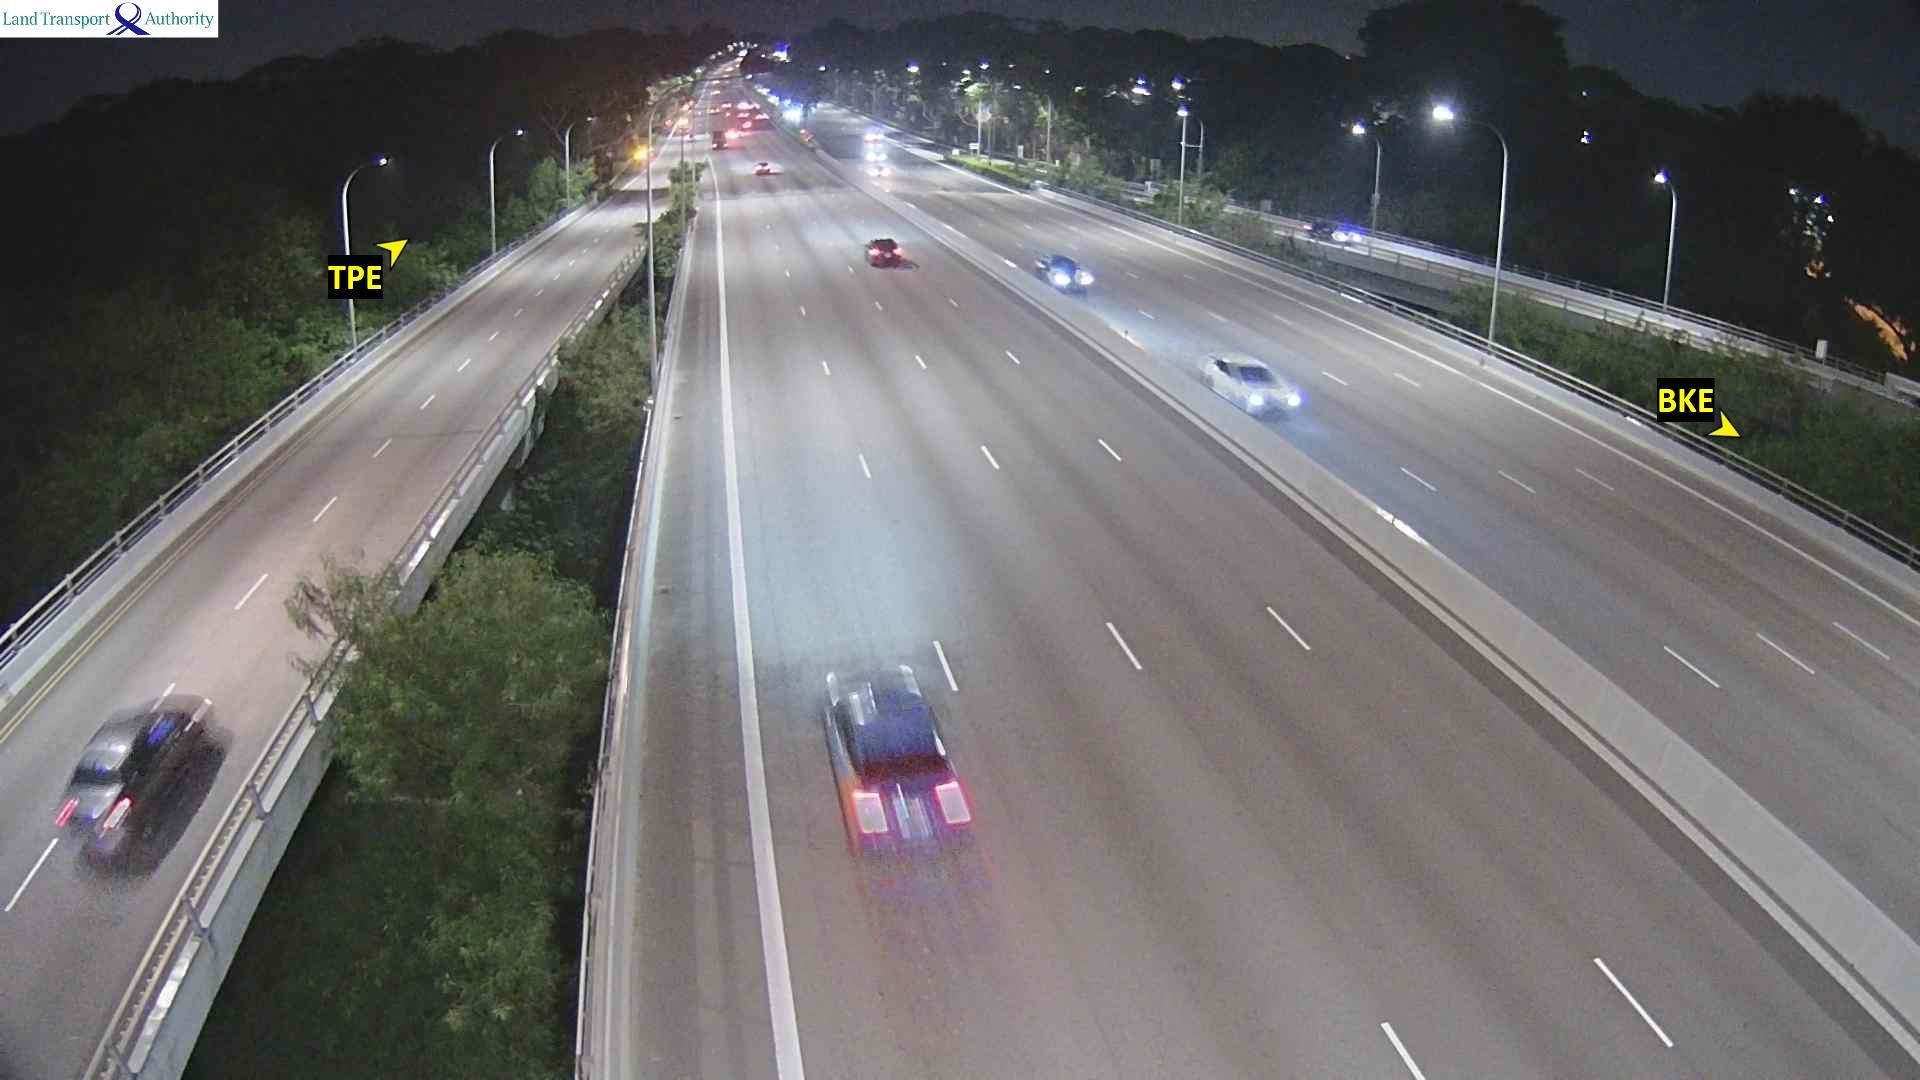cars: (822, 661, 975, 858), (53, 686, 214, 869), (1197, 352, 1302, 419), (1033, 253, 1095, 291), (1305, 216, 1366, 244), (865, 237, 902, 266), (1331, 222, 1365, 244), (709, 127, 744, 149), (1304, 216, 1335, 236), (864, 154, 889, 177), (864, 123, 885, 145), (752, 160, 781, 175), (709, 127, 727, 149), (798, 127, 814, 146), (1029, 178, 1048, 191), (705, 104, 721, 117)
